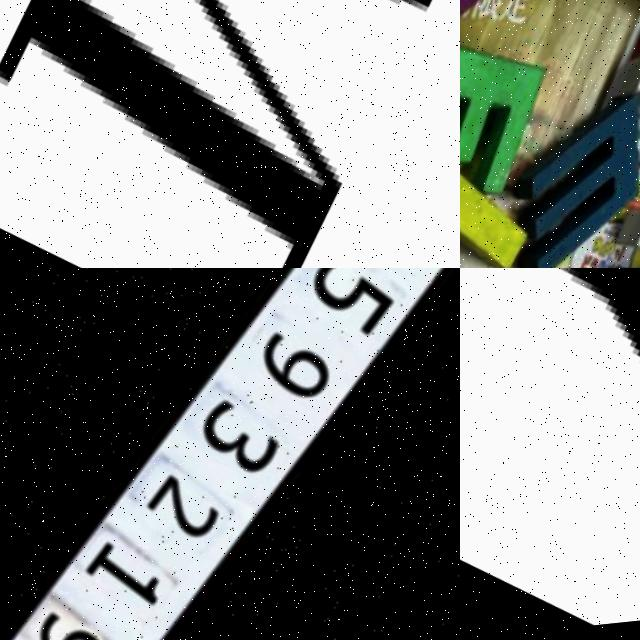1: (59, 520, 185, 638)
2: (121, 459, 239, 569), (341, 268, 457, 293)
3: (170, 382, 301, 505)
5: (280, 268, 418, 366)
9: (229, 313, 357, 433), (1, 591, 120, 640)
F: (460, 27, 560, 215)
G: (460, 0, 541, 90)
H: (596, 121, 640, 268)
L: (460, 158, 541, 268)
M: (0, 0, 460, 268), (462, 87, 640, 268)
Q: (593, 0, 640, 159)
Y: (460, 268, 640, 640), (546, 0, 640, 49)
